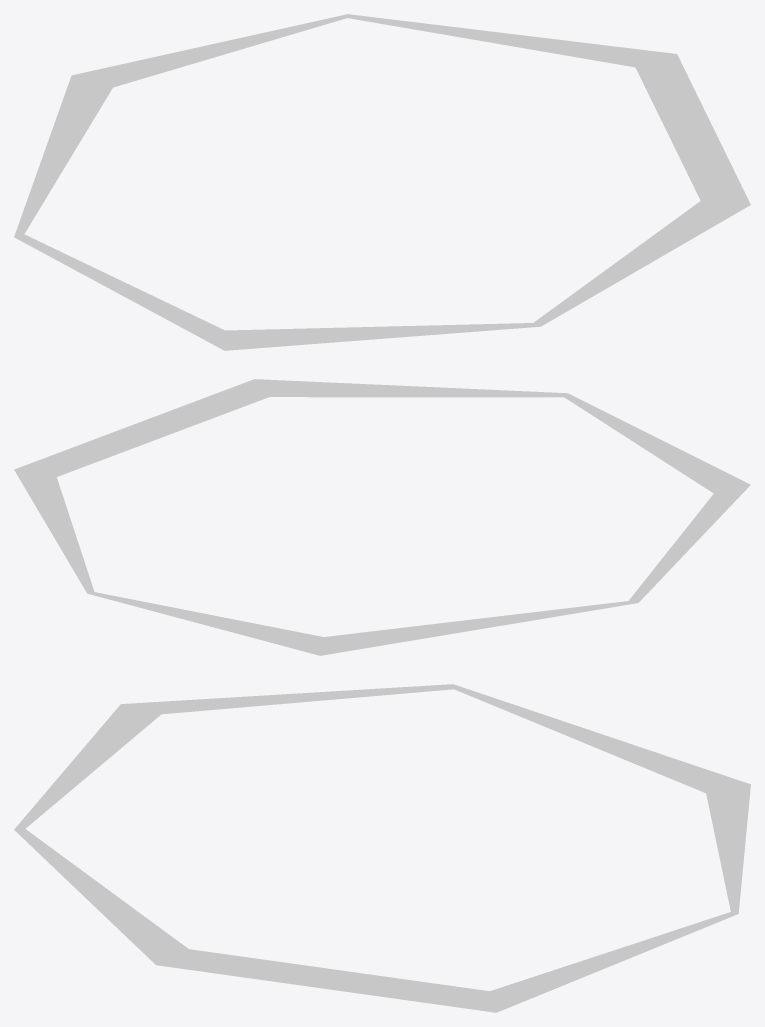
File: Water_Line_03.FBX
3 views of the same model, one above another, from view 1: azimuth 30°, elevation 25°; view 2: azimuth 150°, elevation 25°; view 3: azimuth 270°, elevation 25° (orthographic). The views are drawn at different scales.
Parts seen in each view (by area): view 1: Water_Line_03; view 2: Water_Line_03; view 3: Water_Line_03.
Part boxes in pixels (bbox=[...]): Water_Line_03: bbox=[14, 14, 750, 350]; Water_Line_03: bbox=[14, 379, 750, 655]; Water_Line_03: bbox=[14, 684, 750, 1012].
Size of the model in its own units: 2.51 by 1.73e-07 by 2.38.
